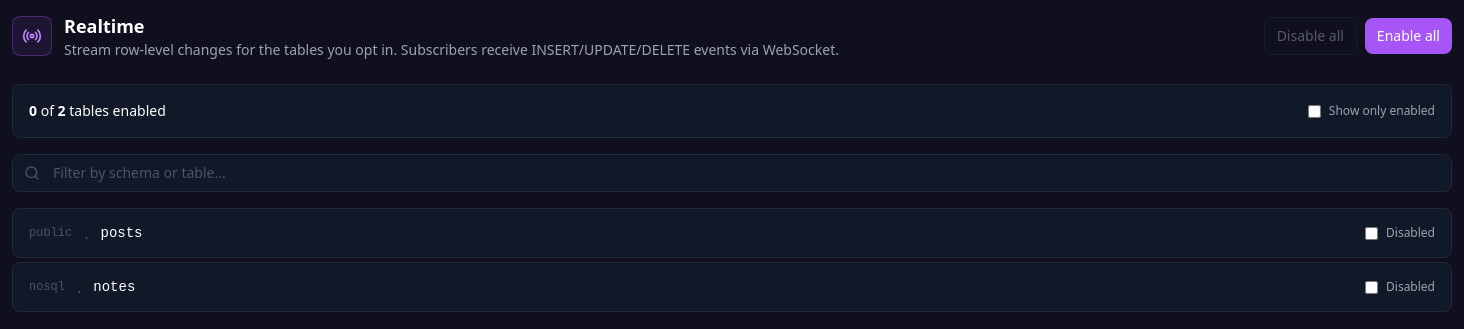
RealtimePage › search filters the visible rows
Expected: the element with test id "realtime-row-public-posts" is shown, [12,208,1452,258]
Type "note" into the field with test id "realtime-search". click: (732, 173)
box: [12,154,1452,192]
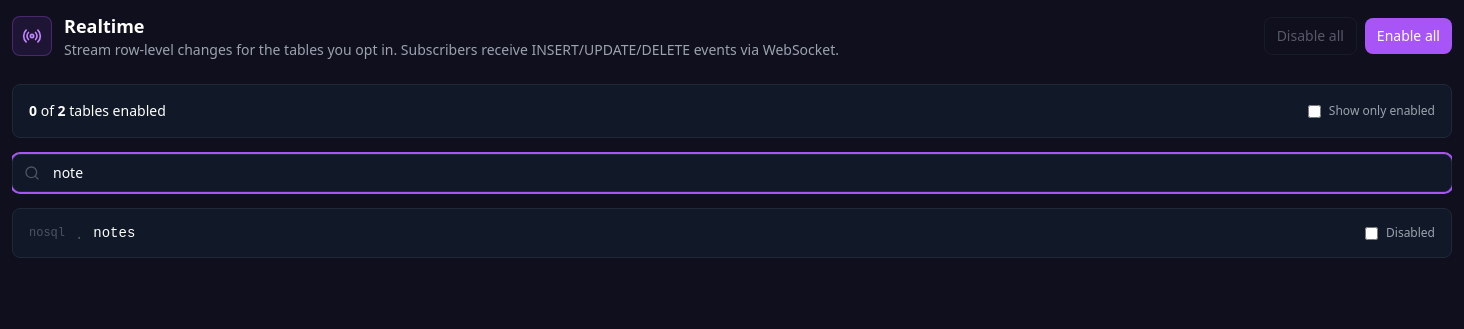
Expected: the element with test id "realtime-row-nosql-notes" is shown, [12,208,1452,258]
Now the element with test id "realtime-row-public-posts" is gone
